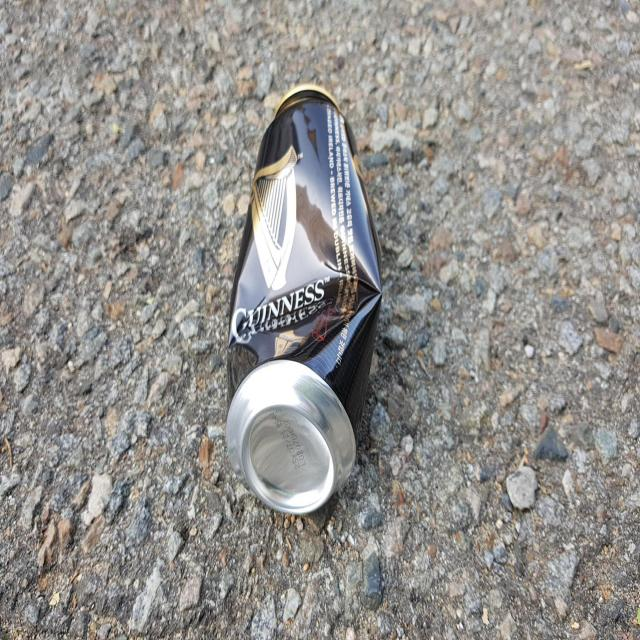can: (226, 83, 382, 513)
